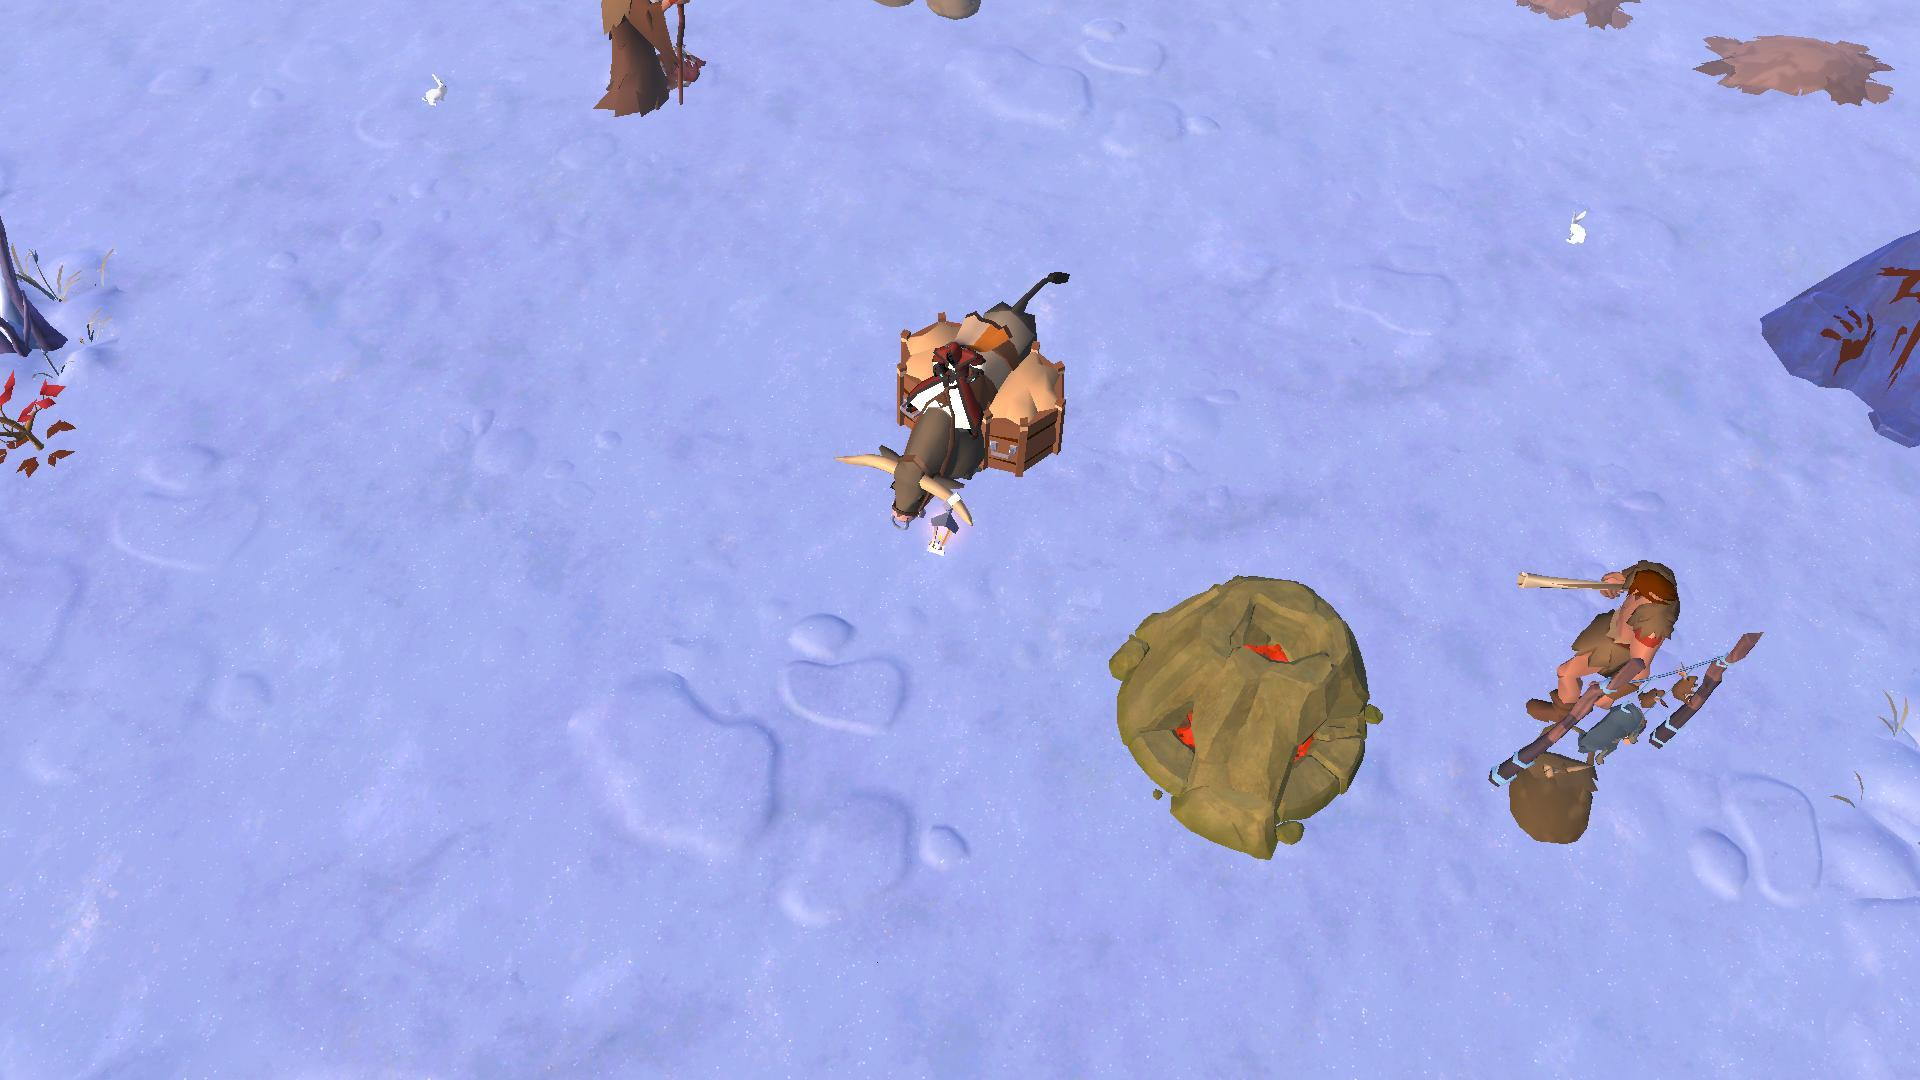enemy_factionKeeper: (1507, 546, 1687, 742), (576, 0, 705, 124)
